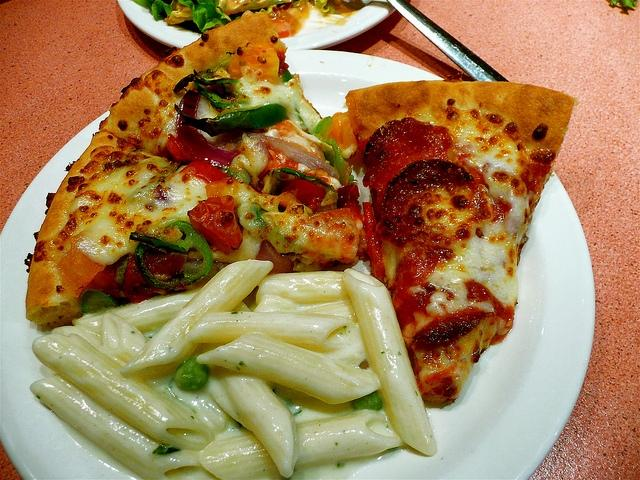pea: (175, 358, 210, 392), (352, 392, 383, 410)
